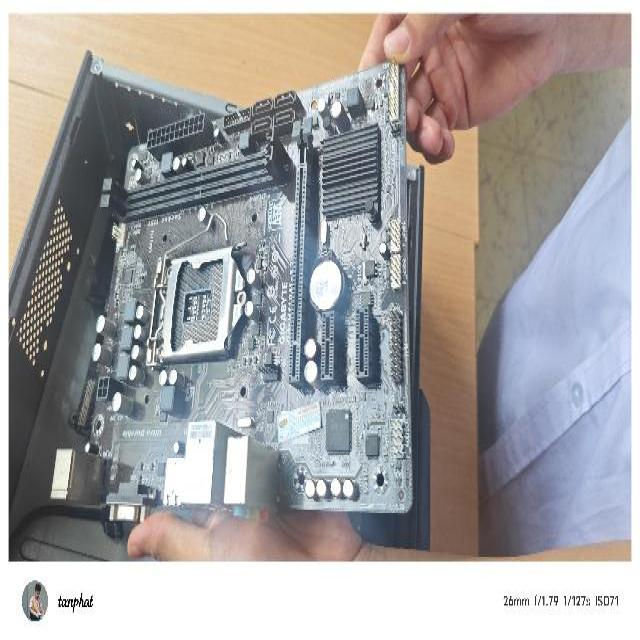Mainboard: (48, 59, 416, 528)
